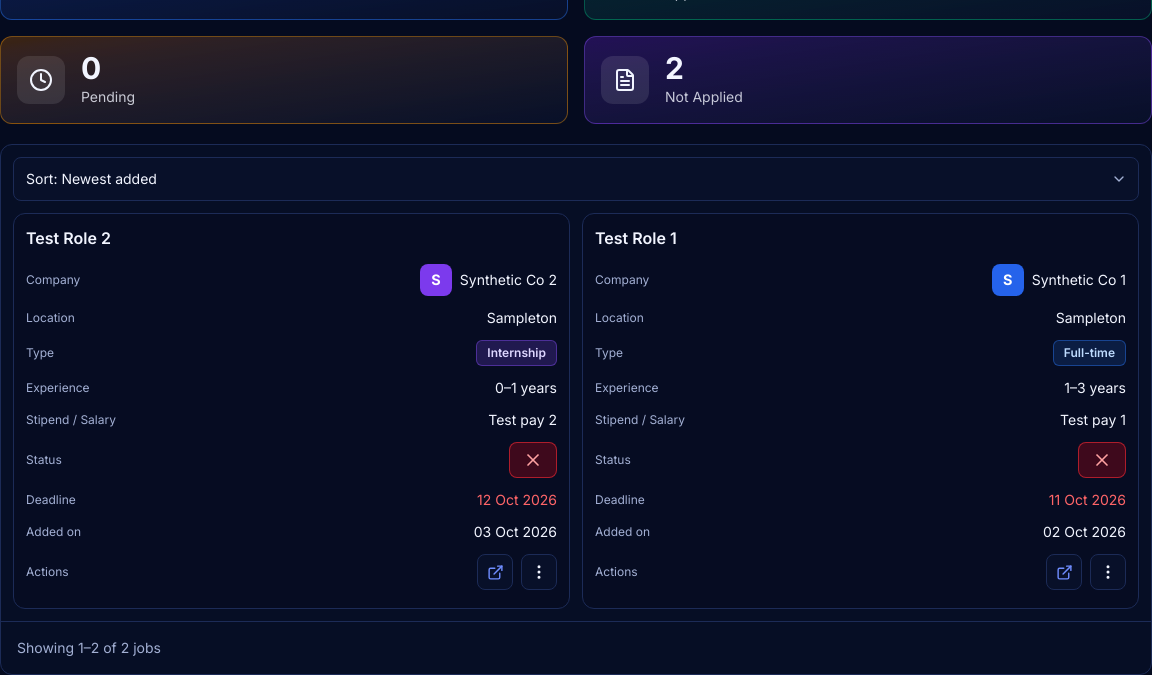
Scenario: All Jobs: edit and delete (owner only) › offers Edit/Delete only on jobs the signed-in member added
(page scrolled)
Step 1. Click the button named "More actions: Test Role 1" → (1108, 572), box [1090, 554, 1126, 590]
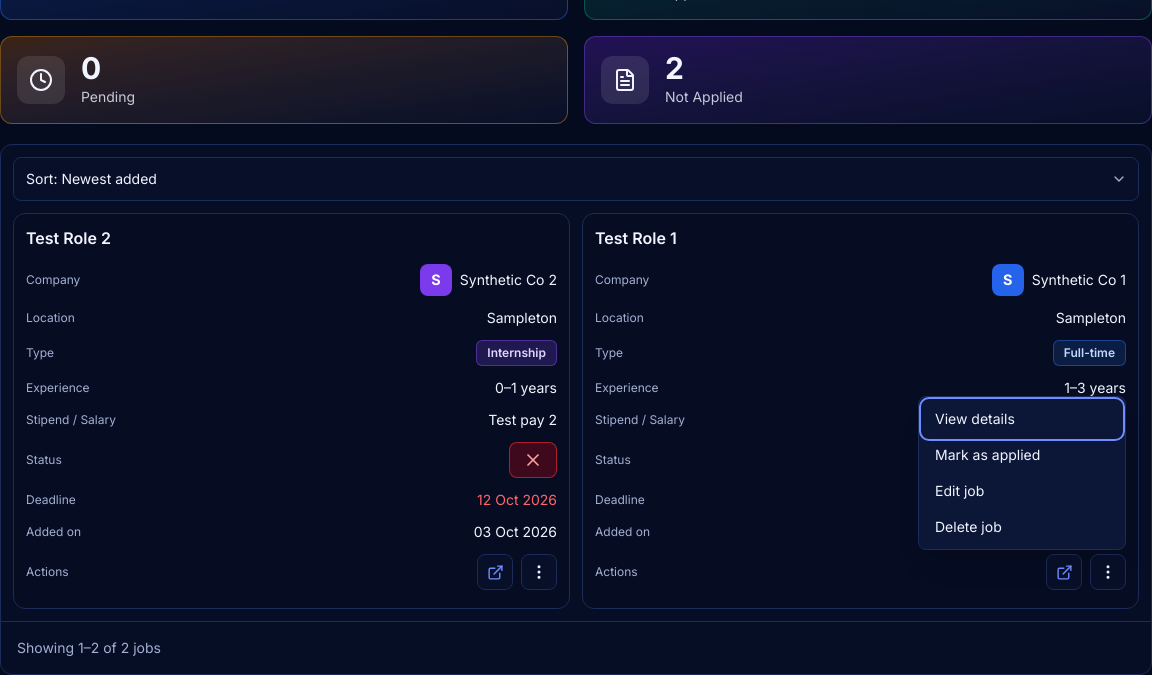
Check: the menu item "Edit job" is shown, box [923, 473, 1121, 509]
Step 2. Press Escape
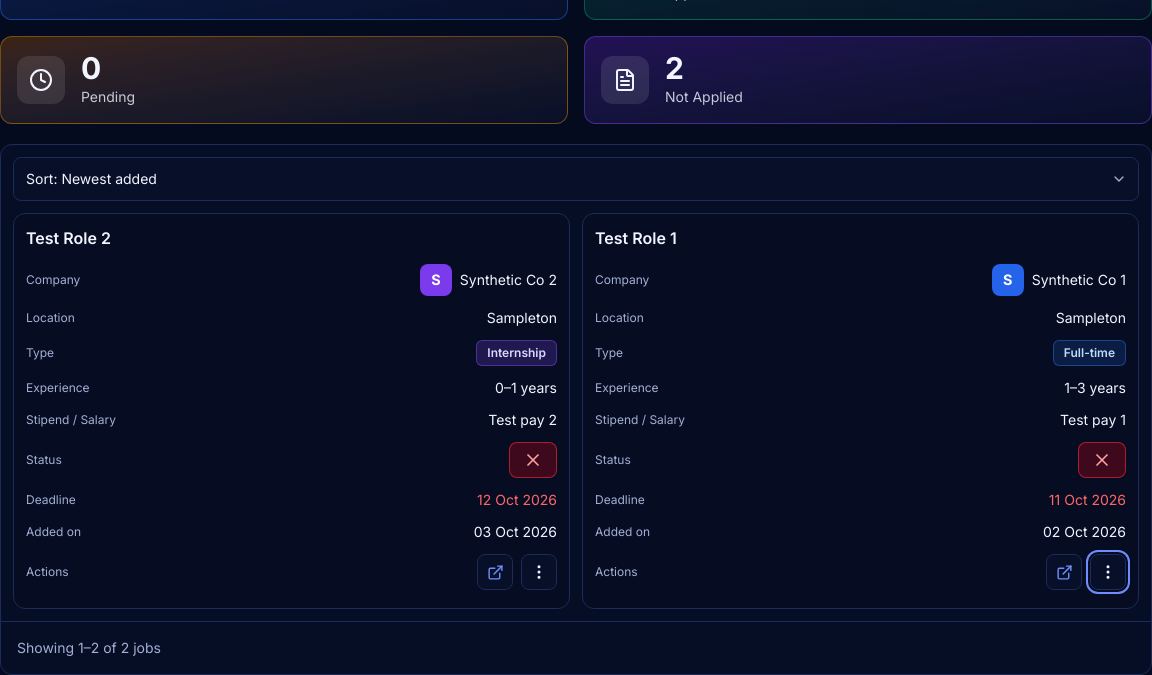
Step 3. Click the button named "More actions: Test Role 2" → (539, 572), box [521, 554, 557, 590]
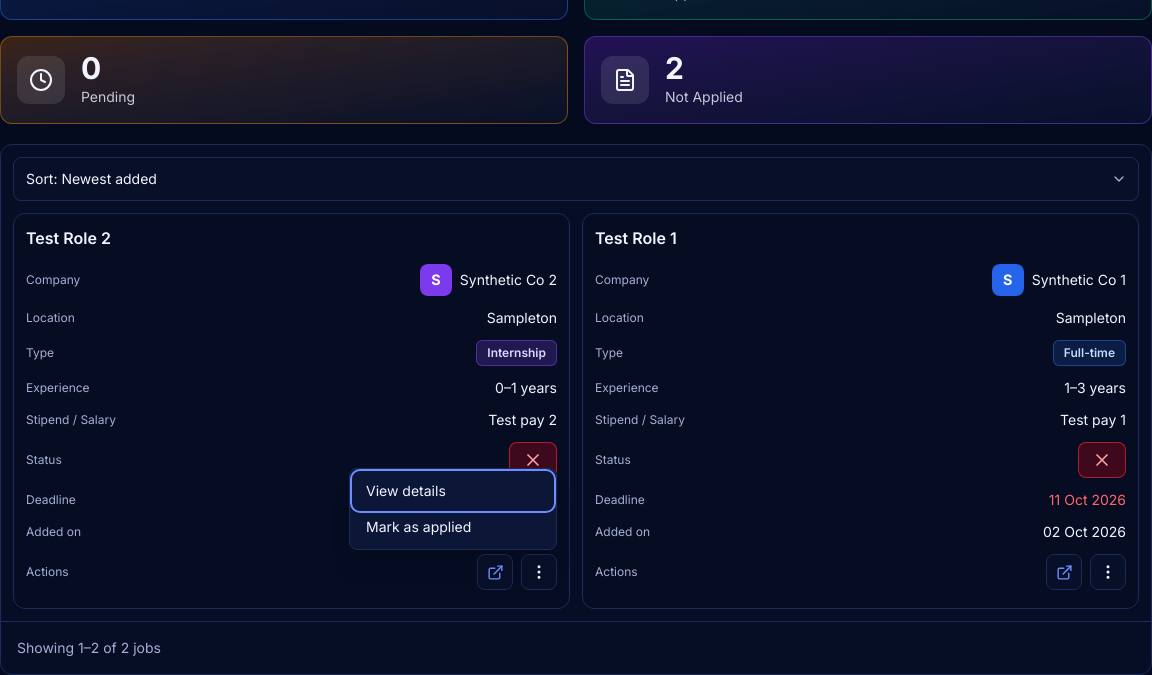
Check: the menu items read "View details", "Mark as applied", in this order, box [354, 473, 552, 509]; [354, 509, 552, 545]
